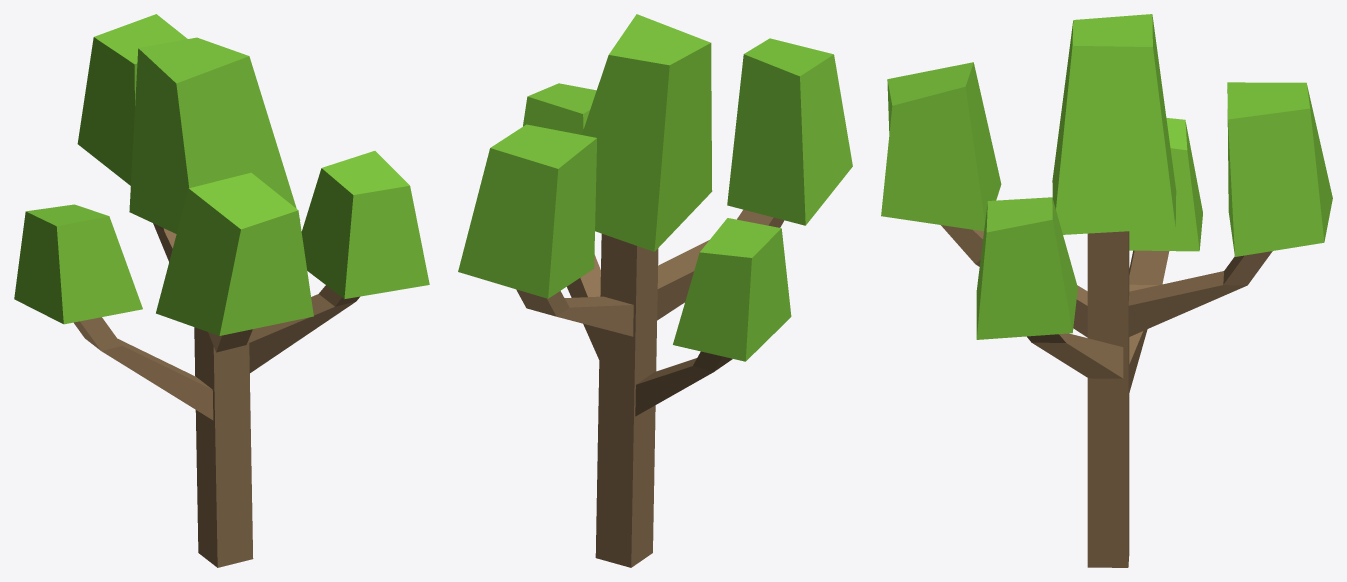
Rendered from tree3.fbx.
3 renders of one model, left to right at view 1: azimuth 30°, elevation 25°; view 2: azimuth 150°, elevation 25°; view 3: azimuth 270°, elevation 25°, orthographic. The views are drawn at different scales.
Visible parts, largest first — view 1: Plane; view 2: Plane; view 3: Plane.
Boxes of the visible parts, box(x1,y1,x2,y2) form: Plane: box(14, 14, 429, 567); Plane: box(458, 14, 852, 567); Plane: box(881, 14, 1332, 567).
Bounding box in the file's own units: 697 × 1123 × 890.
